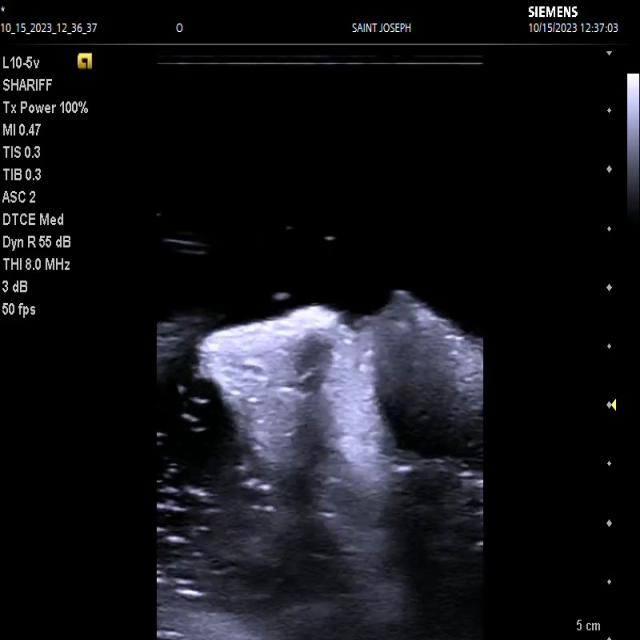tissue: (200, 293, 482, 640)
